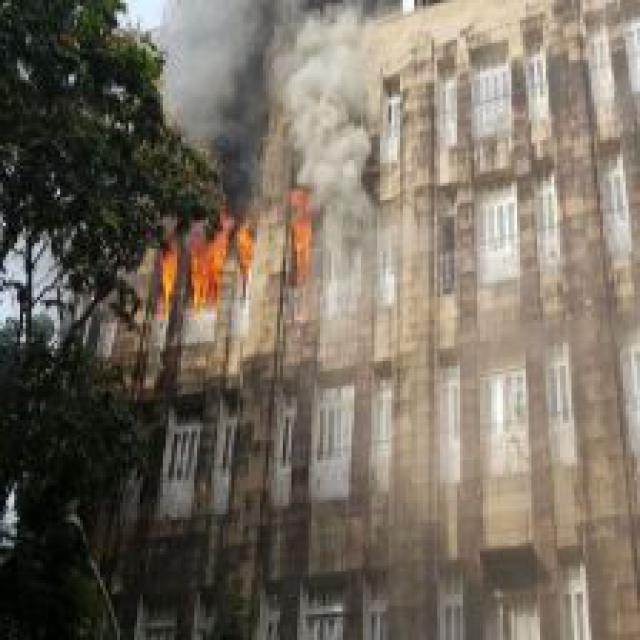fire: (149, 200, 260, 309), (280, 177, 317, 283)
